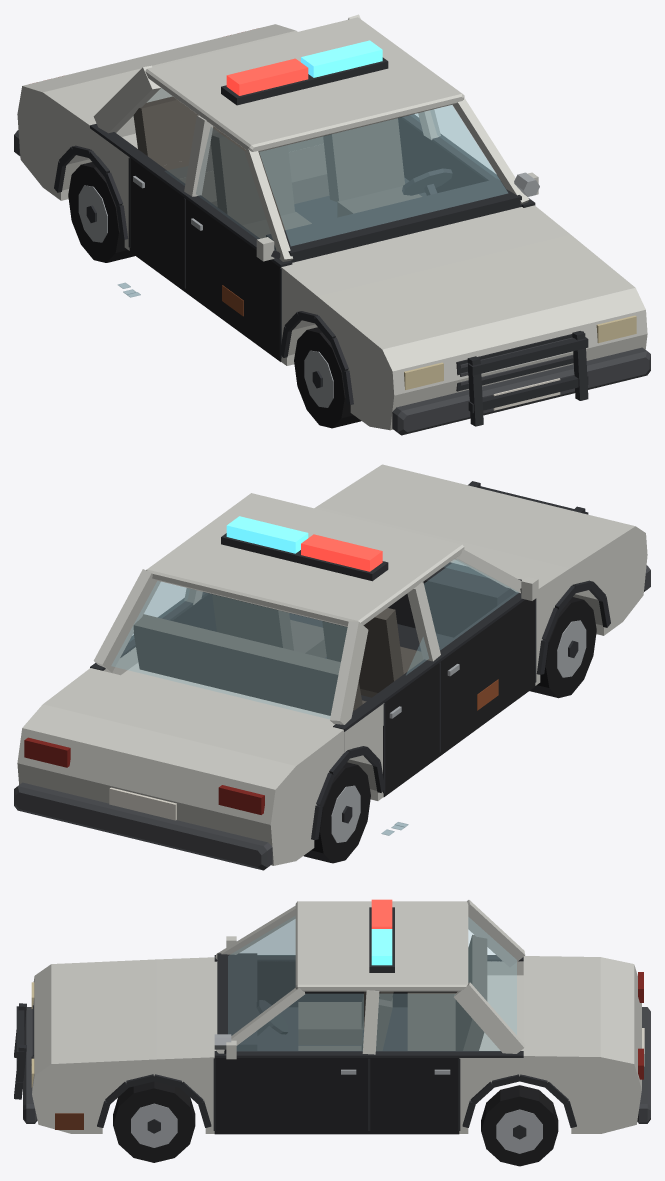
Rendered from SM_Borgo_Police_Wreck.glb.
3 views of the same model, one above another, from view 1: azimuth 30°, elevation 25°; view 2: azimuth 150°, elevation 25°; view 3: azimuth 270°, elevation 25° (orthographic). The views are drawn at different scales.
Parts seen in each view (by area): view 1: SM_Borgo_Police_Wreck; view 2: SM_Borgo_Police_Wreck; view 3: SM_Borgo_Police_Wreck.
Part boxes in pixels (box(x1,y1,x2,y2)): SM_Borgo_Police_Wreck: box(14, 14, 650, 435); SM_Borgo_Police_Wreck: box(14, 464, 650, 870); SM_Borgo_Police_Wreck: box(14, 899, 650, 1166).
Size of the model in its own units: 2.01 by 1.62 by 4.95.
2 materials, 2 textured.
